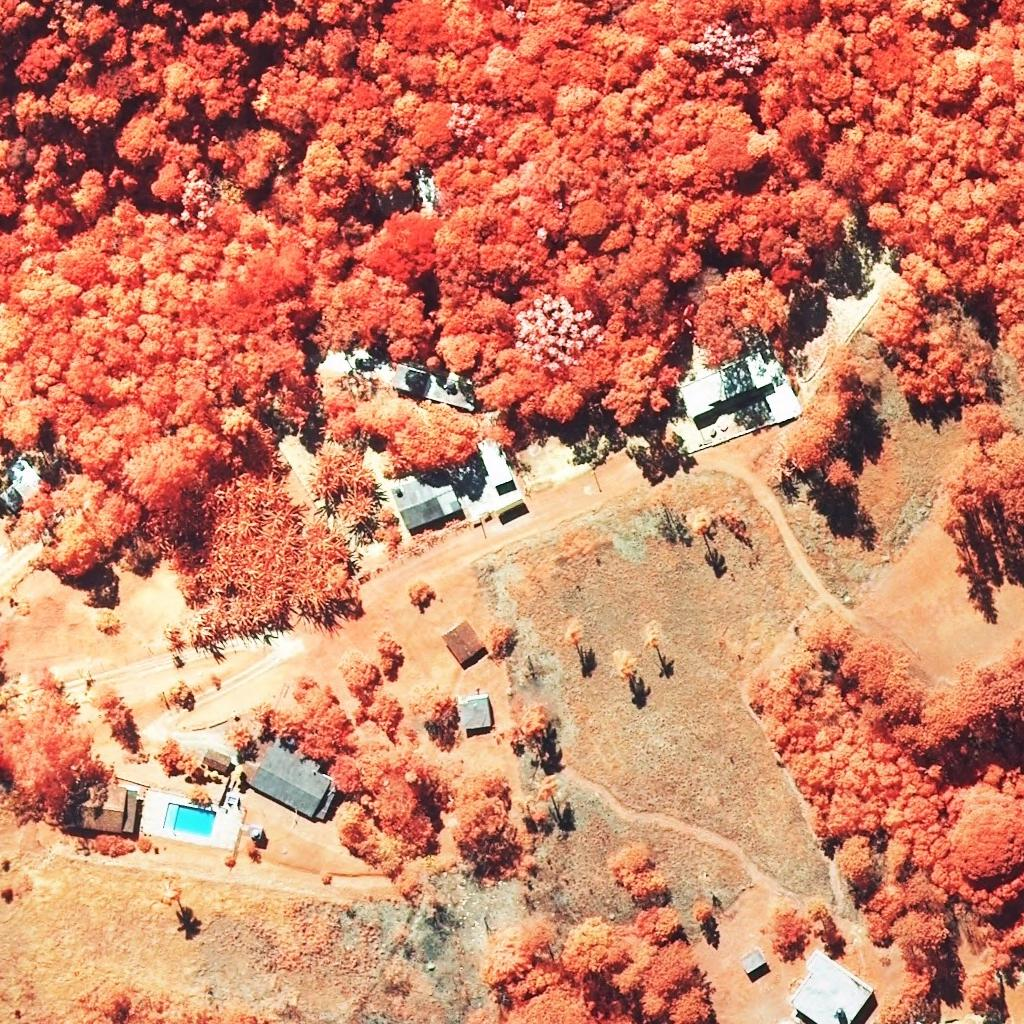pool: (163, 803, 216, 839)
